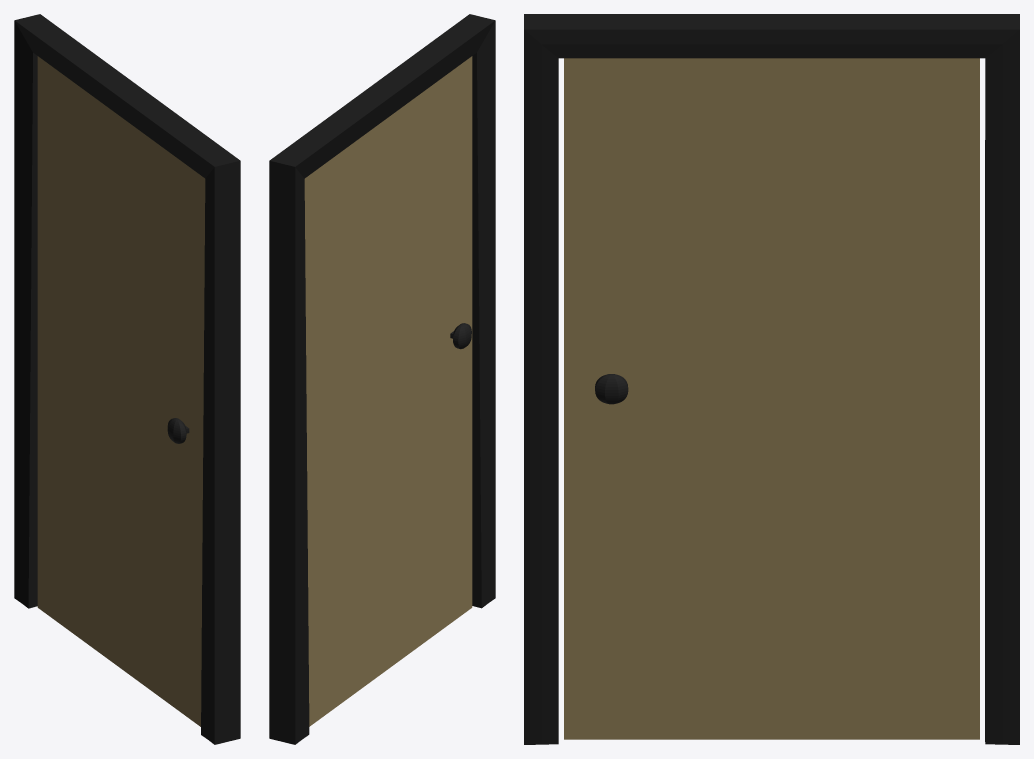
File: BLS_Doorway_Shanna.fbx
3 renders of one model, left to right at view 1: azimuth 30°, elevation 25°; view 2: azimuth 150°, elevation 25°; view 3: azimuth 270°, elevation 25°, orthographic. The views are drawn at different scales.
Visible parts, largest first — view 1: Door, Doorway; view 2: Door, Doorway; view 3: Door, Doorway.
Part boxes in pixels (bbox=[...]): Door: bbox=[37, 56, 205, 726]; Doorway: bbox=[14, 14, 240, 744]; Door: bbox=[304, 56, 472, 726]; Doorway: bbox=[269, 14, 495, 744]; Door: bbox=[564, 58, 979, 739]; Doorway: bbox=[524, 14, 1019, 744].
Size of the model in its own units: 85.57 by 1086 by 682.
